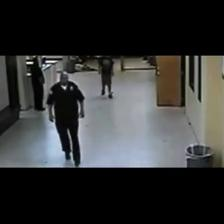person: (47, 72, 84, 166), (31, 57, 44, 111), (98, 56, 114, 98)
